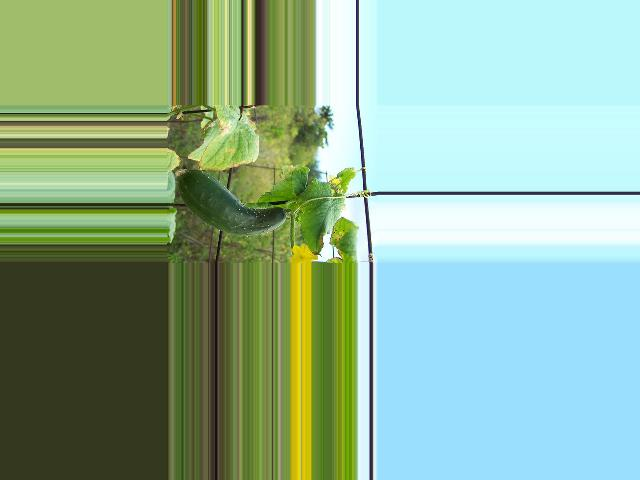cucumber: (178, 168, 287, 235)
